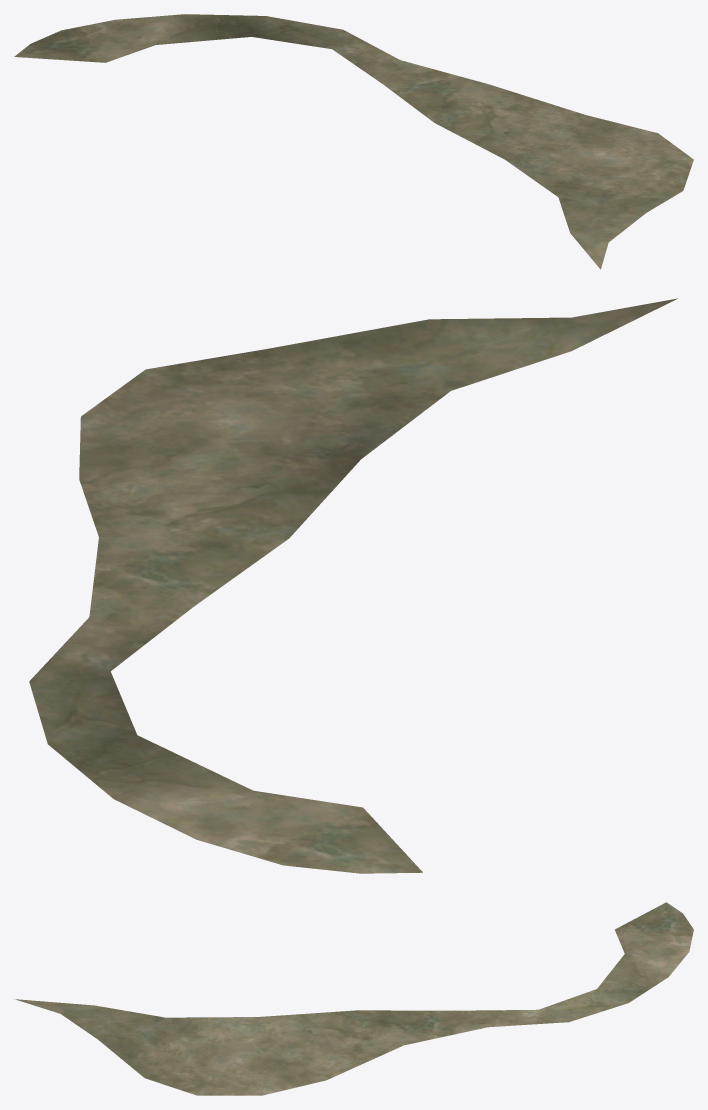
The model's file is EKH_CAVERNS_PS_CA_ISLAND_FLOOR37858.fbx.
3 renders of one model, top to bottom at view 1: azimuth 30°, elevation 25°; view 2: azimuth 150°, elevation 25°; view 3: azimuth 270°, elevation 25°, orthographic. The views are drawn at different scales.
Visible parts, largest first — view 1: EKH_CAVERNS_PS_CA_ISLAND_FLOOR37858; view 2: EKH_CAVERNS_PS_CA_ISLAND_FLOOR37858; view 3: EKH_CAVERNS_PS_CA_ISLAND_FLOOR37858.
Part boxes in pixels (box(x1,y1,x2,y2)): EKH_CAVERNS_PS_CA_ISLAND_FLOOR37858: box(14, 14, 693, 269); EKH_CAVERNS_PS_CA_ISLAND_FLOOR37858: box(29, 298, 677, 873); EKH_CAVERNS_PS_CA_ISLAND_FLOOR37858: box(14, 902, 693, 1095).
Size of the model in its own units: 57984 by 1659 by 91390.
Materials: 1 (1 with a texture image).
